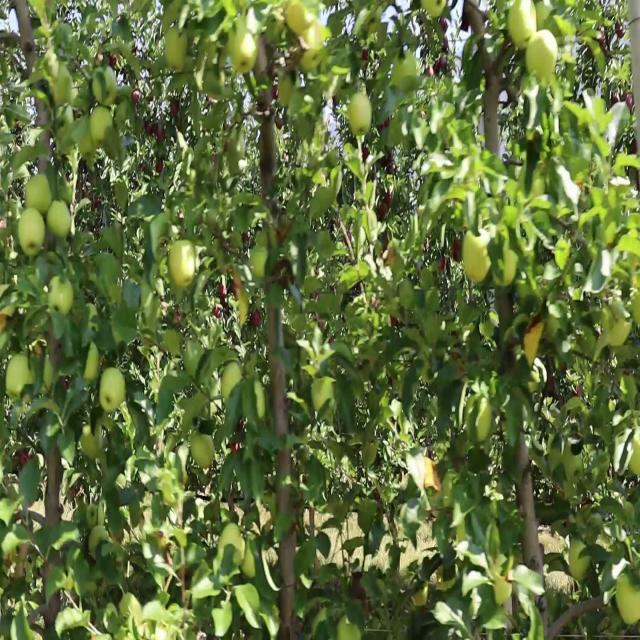apple: (20, 199, 51, 260), (228, 21, 260, 76), (168, 241, 199, 290), (528, 35, 557, 85), (464, 234, 492, 284), (508, 7, 539, 52), (616, 575, 640, 628), (100, 369, 128, 414), (300, 28, 326, 76), (348, 92, 373, 140), (421, 462, 443, 516), (20, 213, 45, 260), (492, 556, 515, 604), (164, 28, 189, 71), (493, 248, 518, 290), (524, 319, 545, 368), (392, 56, 419, 94), (220, 526, 245, 567), (92, 71, 117, 107), (52, 277, 75, 316), (28, 177, 52, 213), (80, 426, 104, 462), (48, 206, 72, 242), (192, 433, 216, 469), (92, 106, 112, 148), (288, 7, 315, 37), (473, 405, 493, 444), (224, 362, 243, 402), (352, 575, 371, 613), (84, 348, 102, 384), (80, 135, 98, 171), (8, 362, 24, 400), (628, 433, 640, 478), (468, 7, 486, 36), (164, 7, 183, 32), (280, 78, 295, 108), (244, 547, 256, 580), (80, 135, 97, 158), (380, 191, 392, 219), (412, 590, 427, 610), (108, 49, 119, 71), (108, 56, 119, 69), (252, 312, 261, 327), (4, 314, 8, 327)
